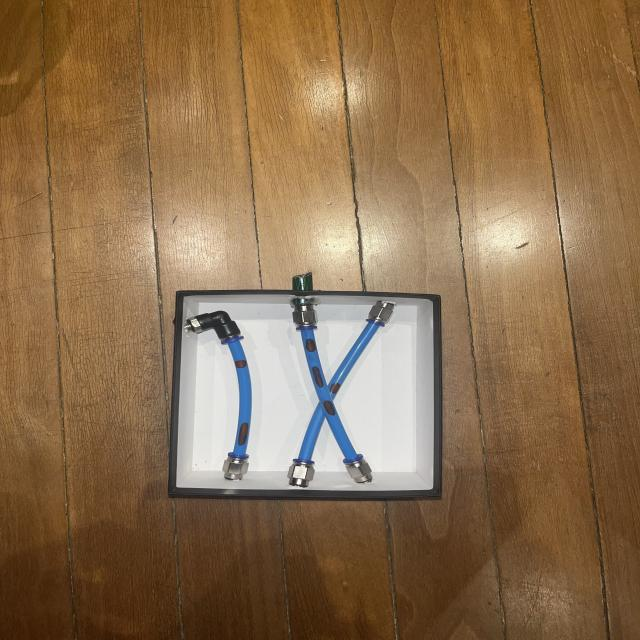hose_damage: (310, 365, 328, 389), (236, 421, 250, 448), (322, 399, 338, 416), (303, 338, 319, 353), (330, 381, 343, 395), (233, 360, 249, 369)
